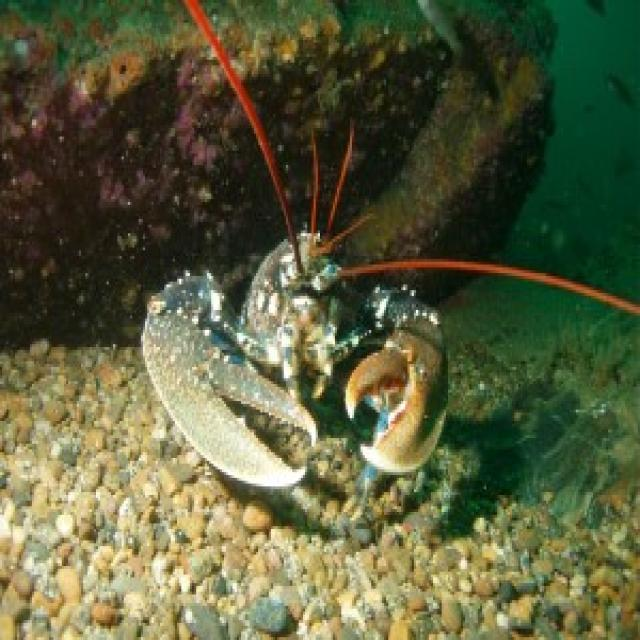lobsters: (66, 131, 515, 541)
